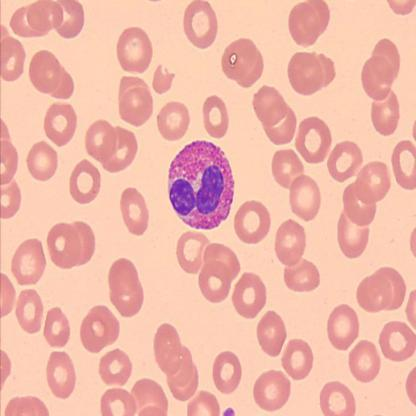Eosinophil: (168, 138, 235, 232)
